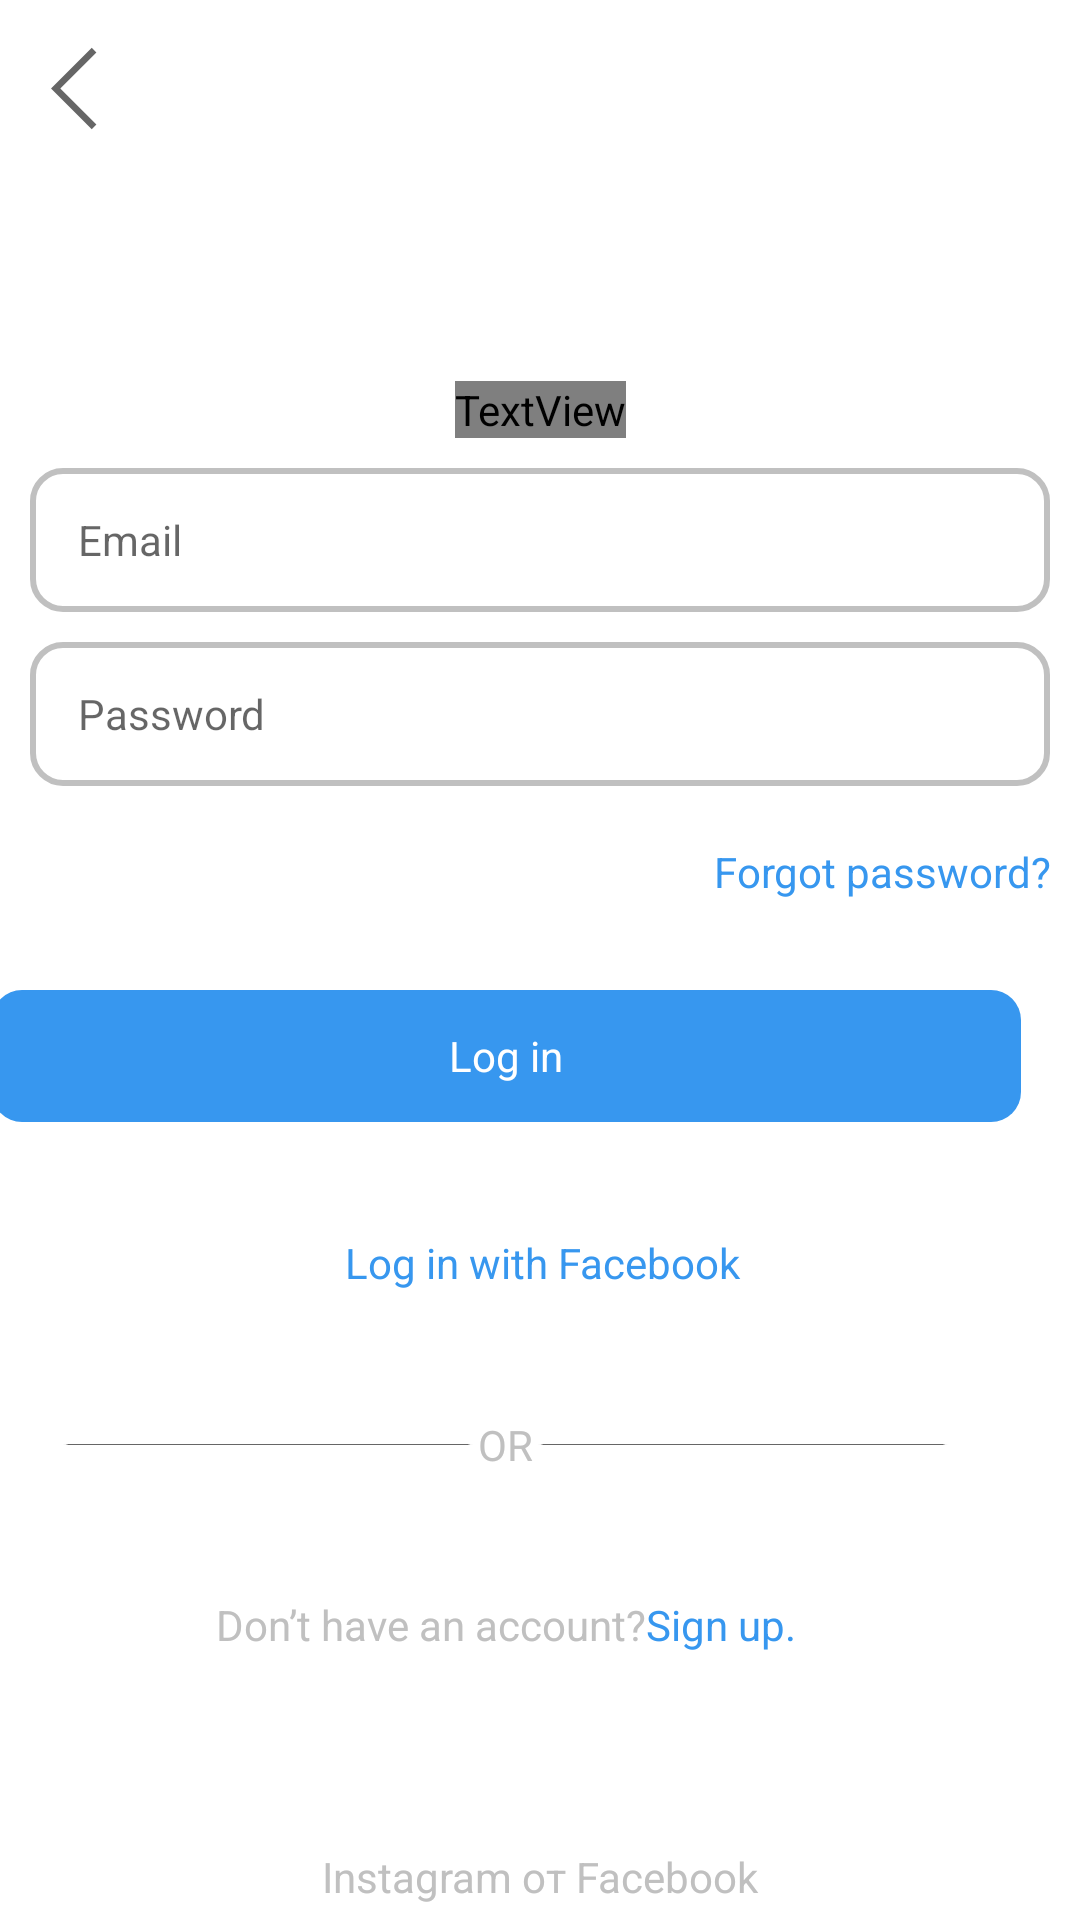

Icon bounding boxes for this 1080px x 1920px phone screenshot, format bbox=(x1, y1, x2, y2):
arrow: bbox=(51, 48, 96, 129)
